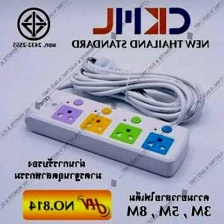three_eye_plug: (22, 83, 193, 182)
